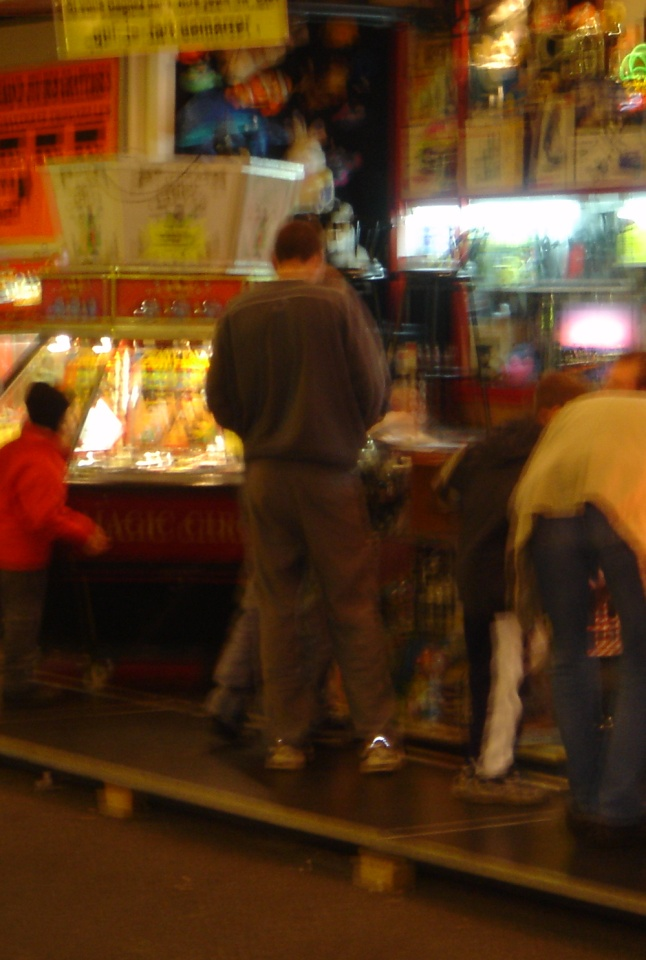person: (215, 220, 390, 776)
